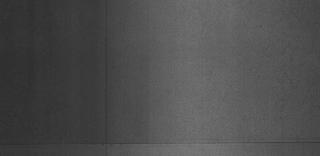welding line: (2, 137, 320, 149)
